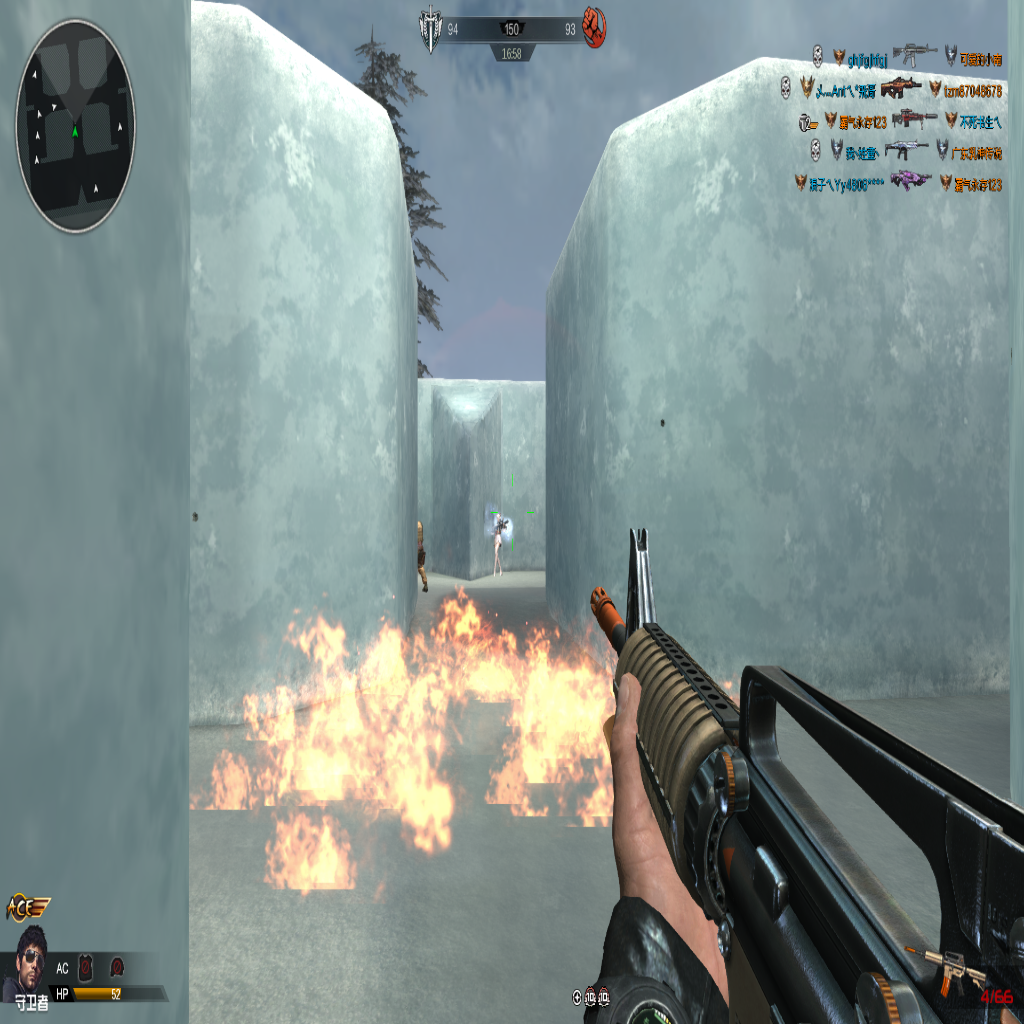tt: (492, 512, 507, 576), (415, 521, 428, 594)
